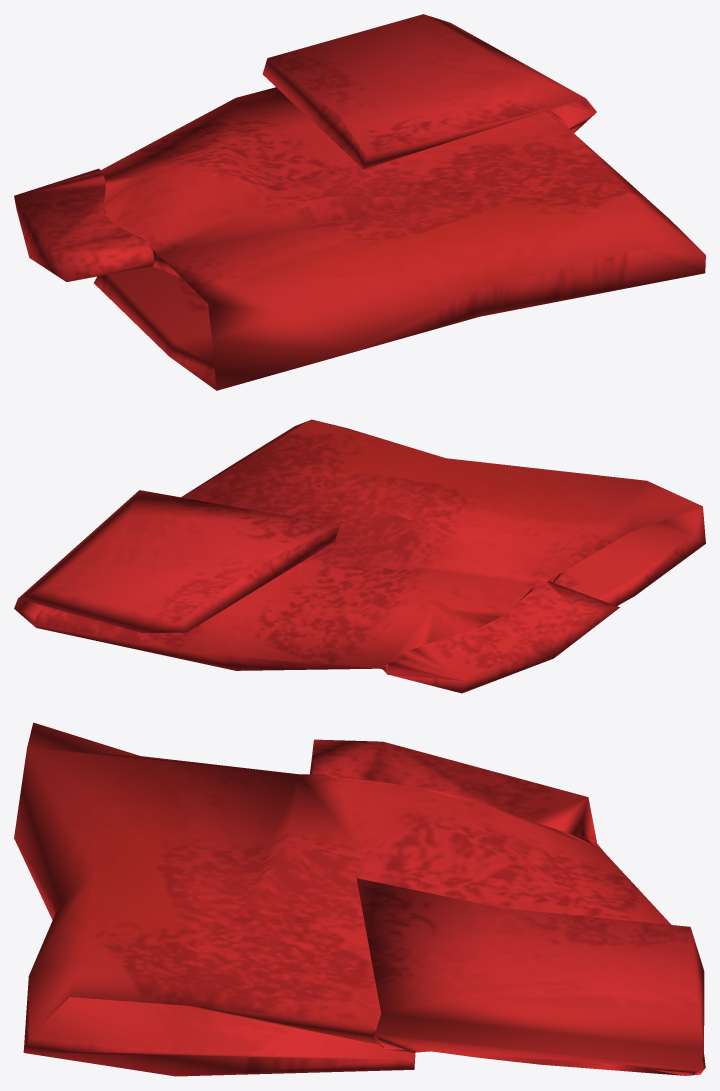
Rendered from MDL_CLRE_dirty.fbx.
3 views of the same model, one above another, from view 1: azimuth 30°, elevation 25°; view 2: azimuth 150°, elevation 25°; view 3: azimuth 270°, elevation 25° (orthographic). The views are drawn at different scales.
Visible parts, largest first — view 1: MDL_CL_dirty; view 2: MDL_CL_dirty; view 3: MDL_CL_dirty.
Boxes of the visible parts, x1,y1,x2,y2 form: MDL_CL_dirty: [14, 14, 705, 390]; MDL_CL_dirty: [14, 419, 705, 693]; MDL_CL_dirty: [14, 722, 705, 1076].
Bounding box in the file's own units: 87.54 × 12.01 × 81.66.
